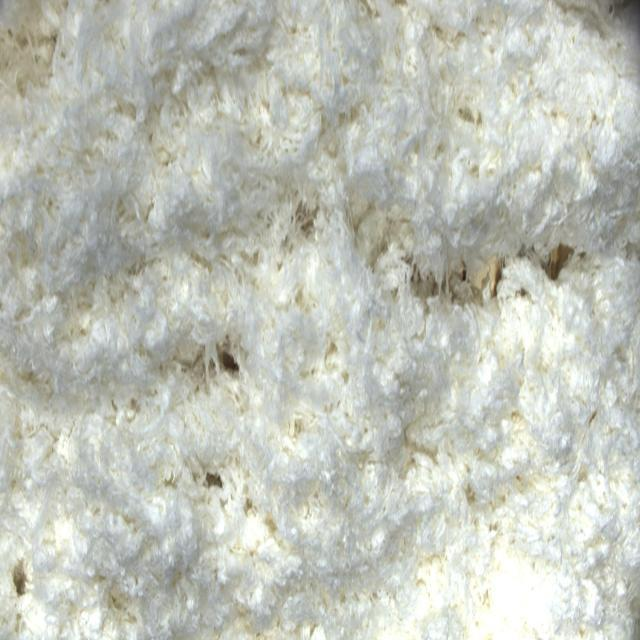dust: (430, 239, 579, 314), (214, 344, 249, 382), (203, 468, 225, 496)
